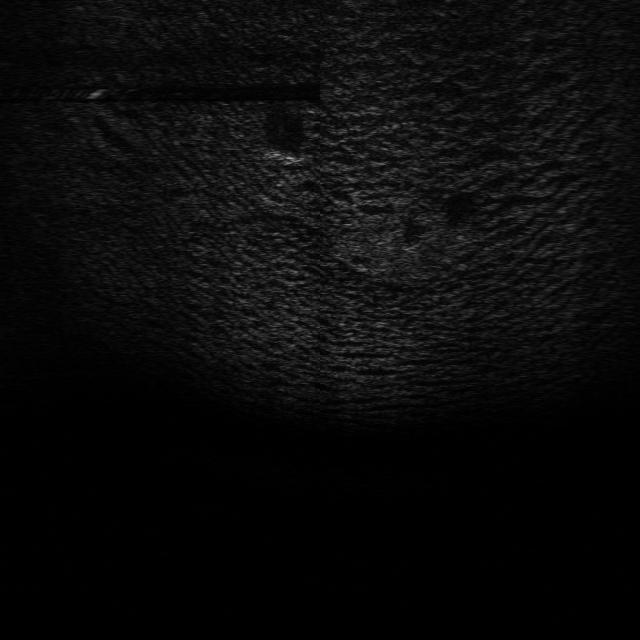plane: (261, 146, 307, 169)
